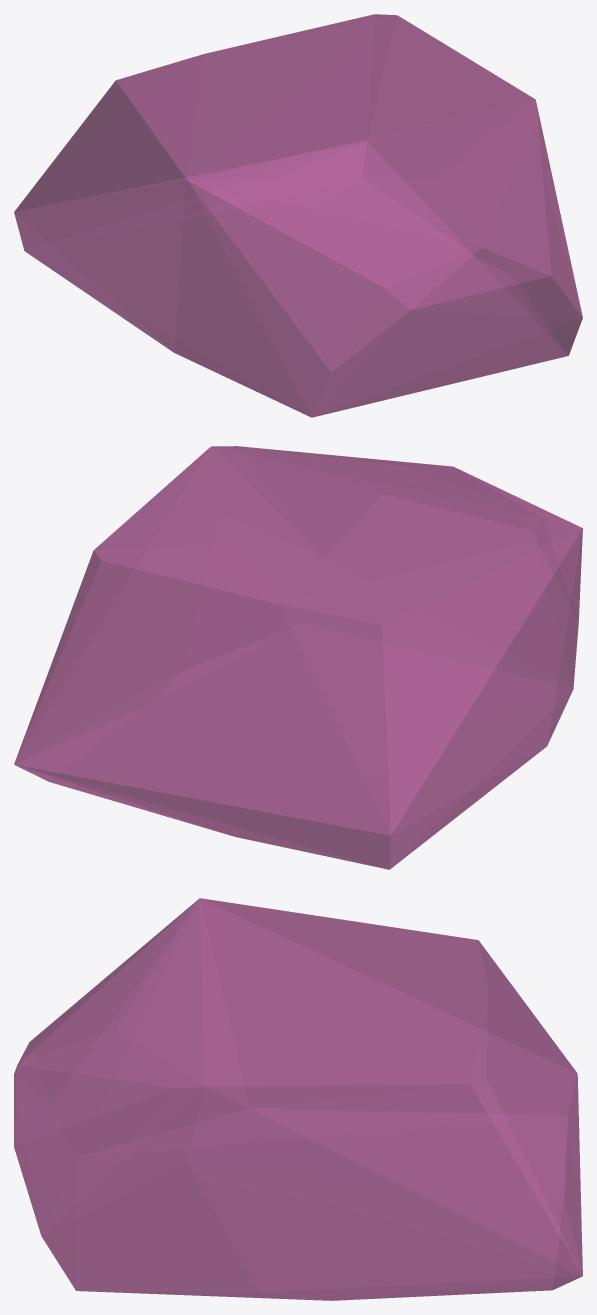
3 views of the same model, one above another, from view 1: azimuth 30°, elevation 25°; view 2: azimuth 150°, elevation 25°; view 3: azimuth 270°, elevation 25° (orthographic). The views are drawn at different scales.
Visible parts, largest first — view 1: Shape_IndexedFaceSet.061_Shape_IndexedFaceSet.3557; view 2: Shape_IndexedFaceSet.061_Shape_IndexedFaceSet.3557; view 3: Shape_IndexedFaceSet.061_Shape_IndexedFaceSet.3557.
Part boxes in pixels (left/top/right/bottom): Shape_IndexedFaceSet.061_Shape_IndexedFaceSet.3557: left=14, top=14, right=582, bottom=417; Shape_IndexedFaceSet.061_Shape_IndexedFaceSet.3557: left=14, top=446, right=582, bottom=869; Shape_IndexedFaceSet.061_Shape_IndexedFaceSet.3557: left=14, top=898, right=582, bottom=1300.
Size of the model in its own units: 0.2676 by 0.1505 by 0.3448.
